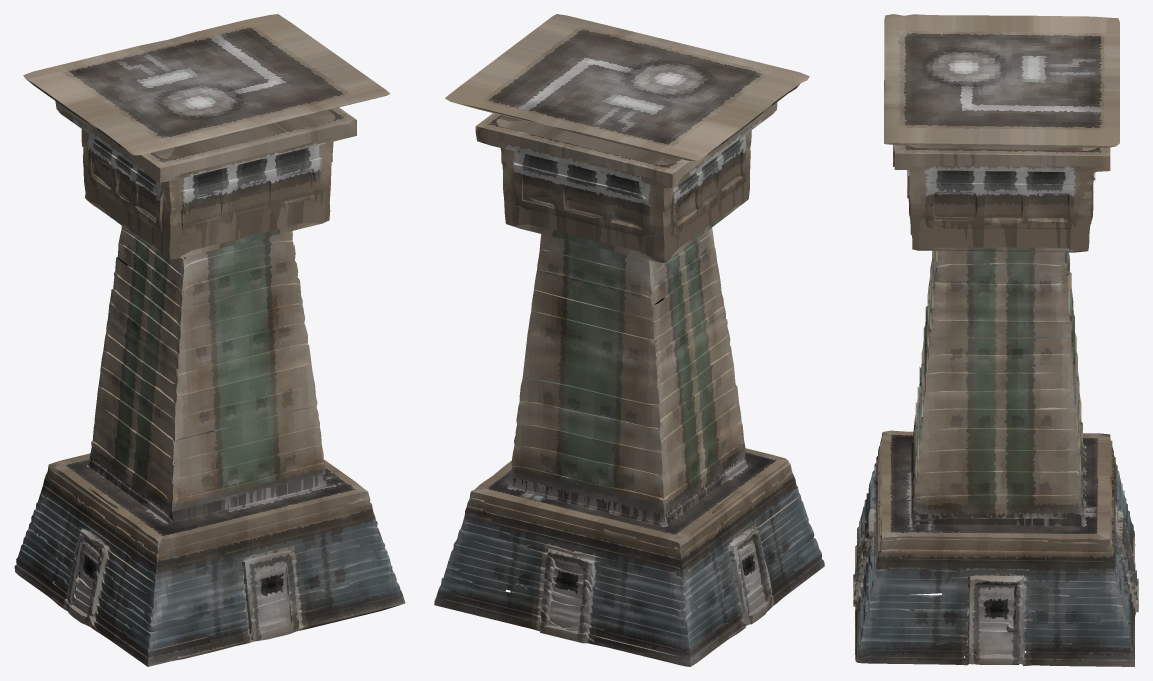
The model's file is lookouttower_hd.glb.
The picture shows the model from 3 angles, left to right: view 1: azimuth 30°, elevation 25°; view 2: azimuth 150°, elevation 25°; view 3: azimuth 270°, elevation 25°; orthographic projection. The views are drawn at different scales.
Visible parts, largest first — view 1: hd_body; view 2: hd_body; view 3: hd_body.
Boxes of the visible parts, bbox=[...] form: hd_body: bbox=[14, 14, 405, 666]; hd_body: bbox=[434, 14, 824, 666]; hd_body: bbox=[853, 14, 1138, 666].
Bounding box in the file's own units: 8.14 × 14.92 × 7.38.
Materials: 1 (1 with a texture image).
